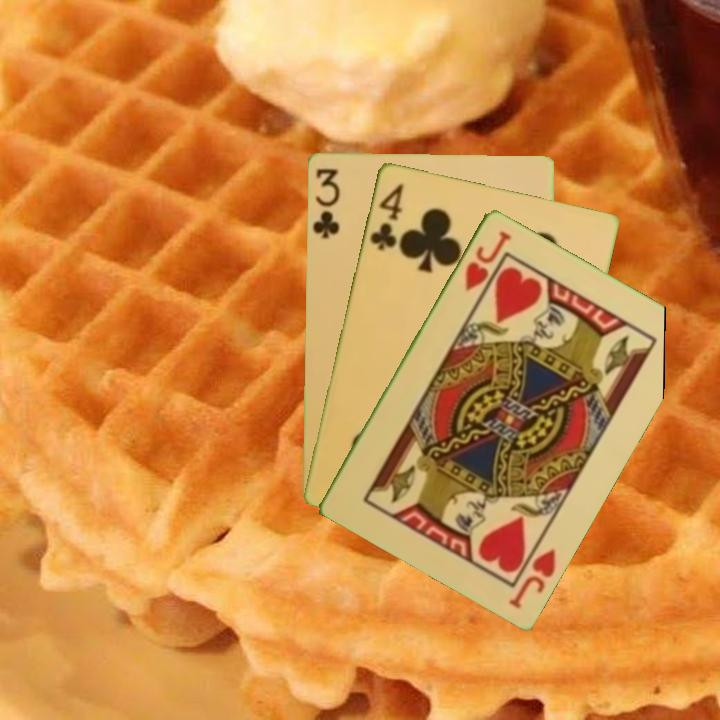3c: (308, 164, 342, 241)
4c: (365, 179, 406, 253)
Jh: (505, 544, 559, 611), (461, 226, 514, 294)
